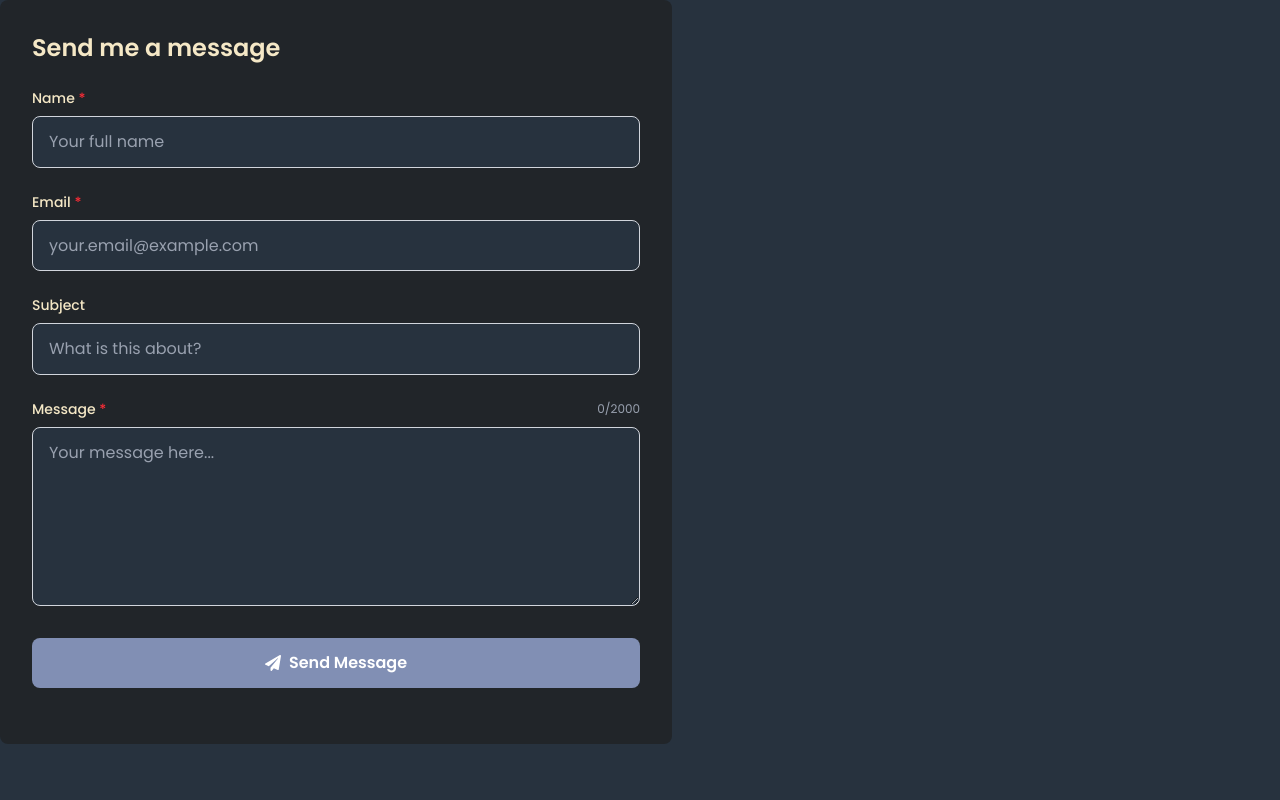
ContactForm — validation › shows invalid character error for name containing numbers
Type "John123" into the field labelled "Name *".
click(336, 142); type("John123")  # box x1=32 y1=116 x2=640 y2=168
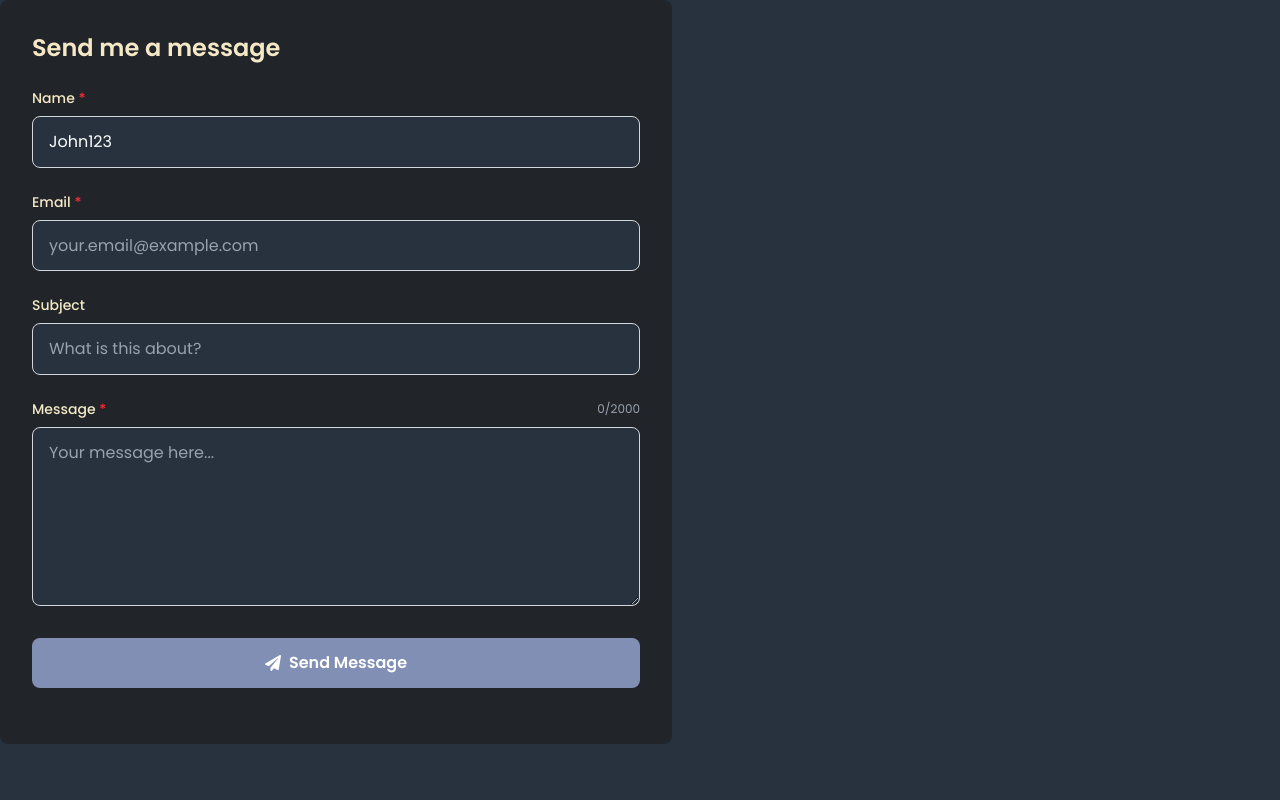
Click the button "Send Message".
click(336, 663)  # box x1=32 y1=638 x2=640 y2=688
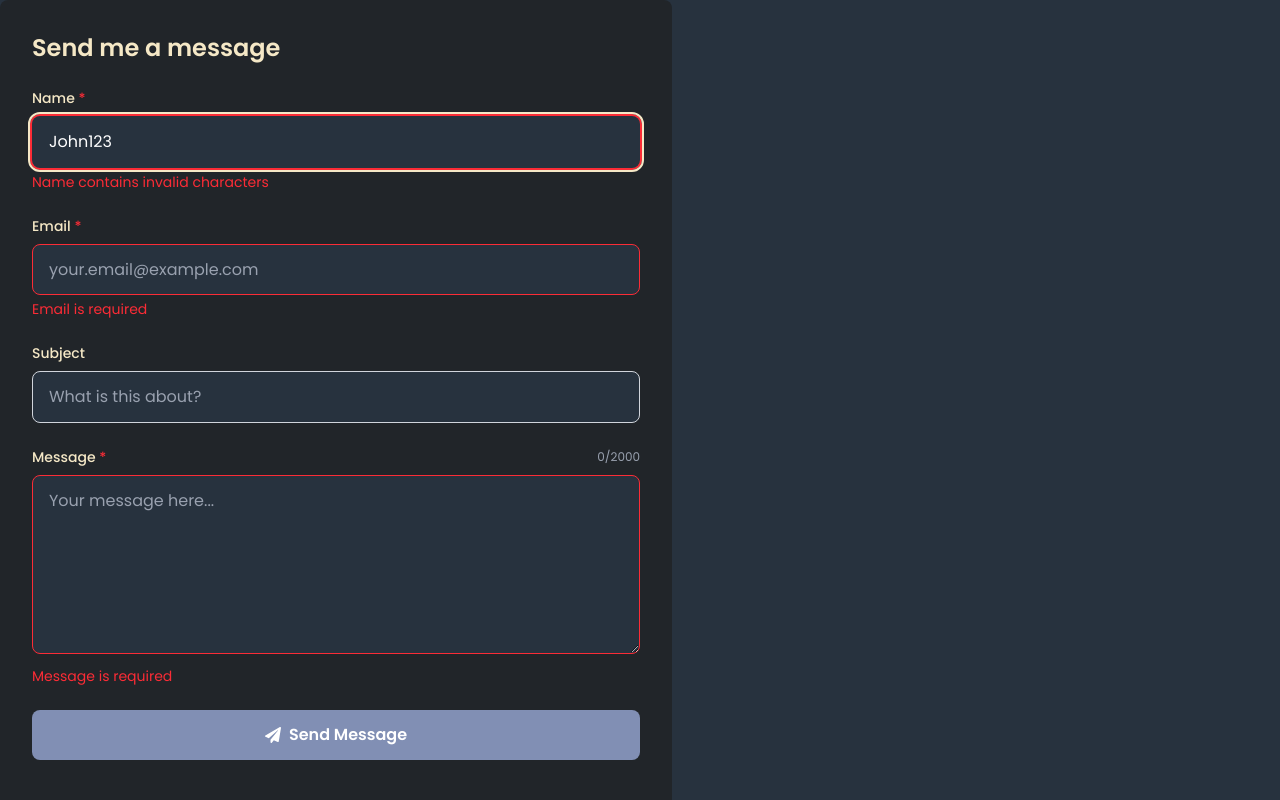
Result: the text "Name contains invalid characters" is shown at x1=32 y1=172 x2=269 y2=192
